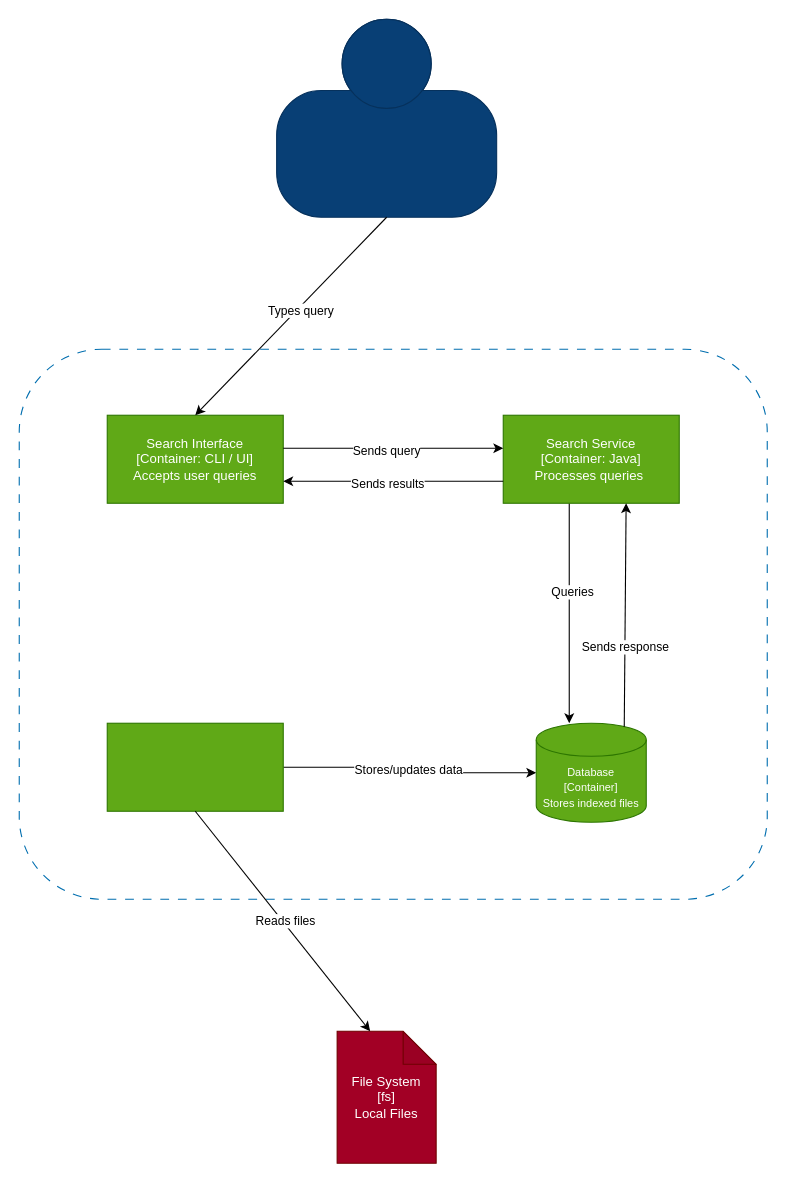
Some shapes in this 787 by 1183 pixel diagram are drawn without their labels. The box of each missing label's shape, as (x1, y1, x2, y2) in pixels:
Sync Service [Container: Java] Indexes files from file system: (106, 722, 283, 811)
User [Person] Searches for files: (276, 18, 497, 217)
